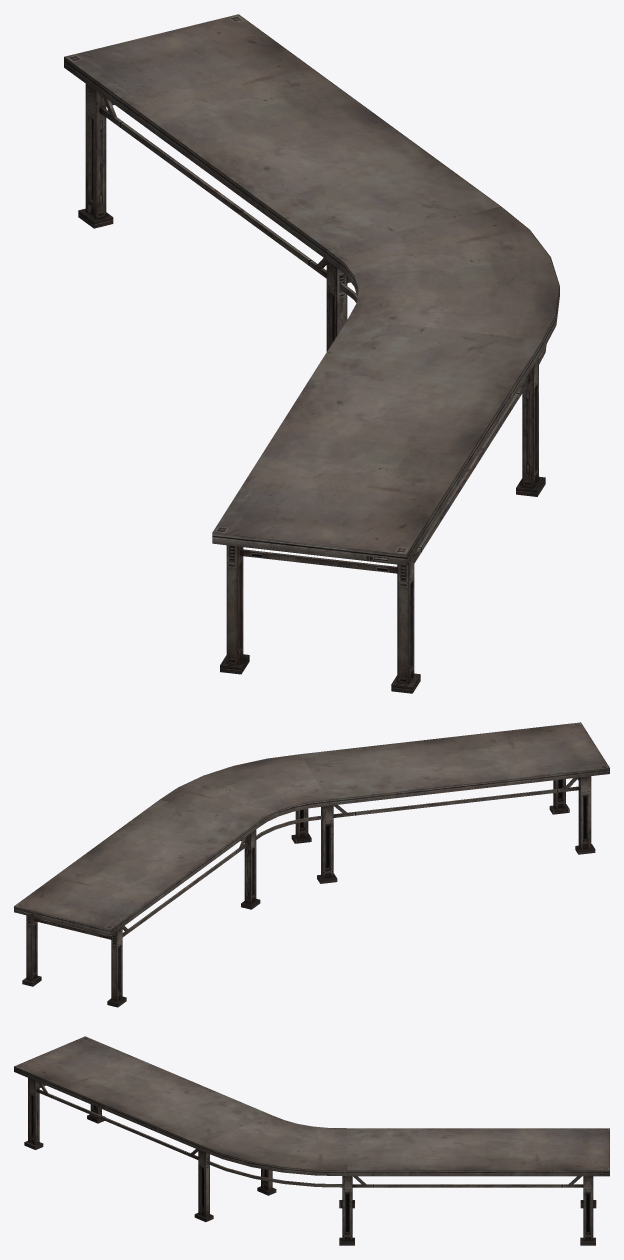
File: table_lab_ark_room.dae
3 views of the same model, one above another, from view 1: azimuth 30°, elevation 25°; view 2: azimuth 150°, elevation 25°; view 3: azimuth 270°, elevation 25° (orthographic). The views are drawn at different scales.
Parts seen in each view (by area): view 1: Mesh; view 2: Mesh; view 3: Mesh.
Boxes of the visible parts, x1,y1,x2,y2 form: Mesh: (64, 14, 559, 693); Mesh: (14, 722, 609, 1007); Mesh: (14, 1036, 609, 1245).
Size of the model in its own units: 4.04 by 1.05 by 7.56.
